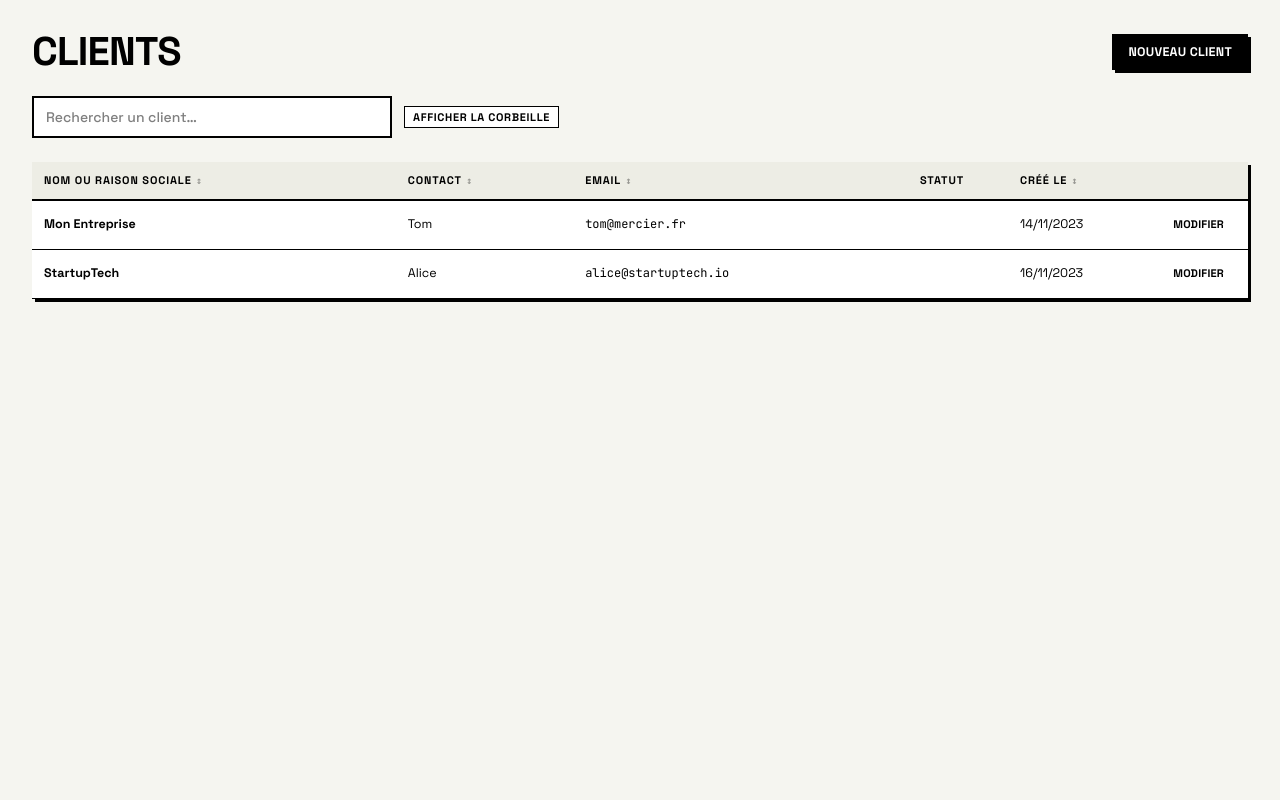
Scenario: ClientsRoute › ouvre la modale ClientForm sur clic Nouveau client
The width and height of the screenshot is (1280, 800).
Click the button "Nouveau client" at (1180, 52), box [1112,34,1248,70]
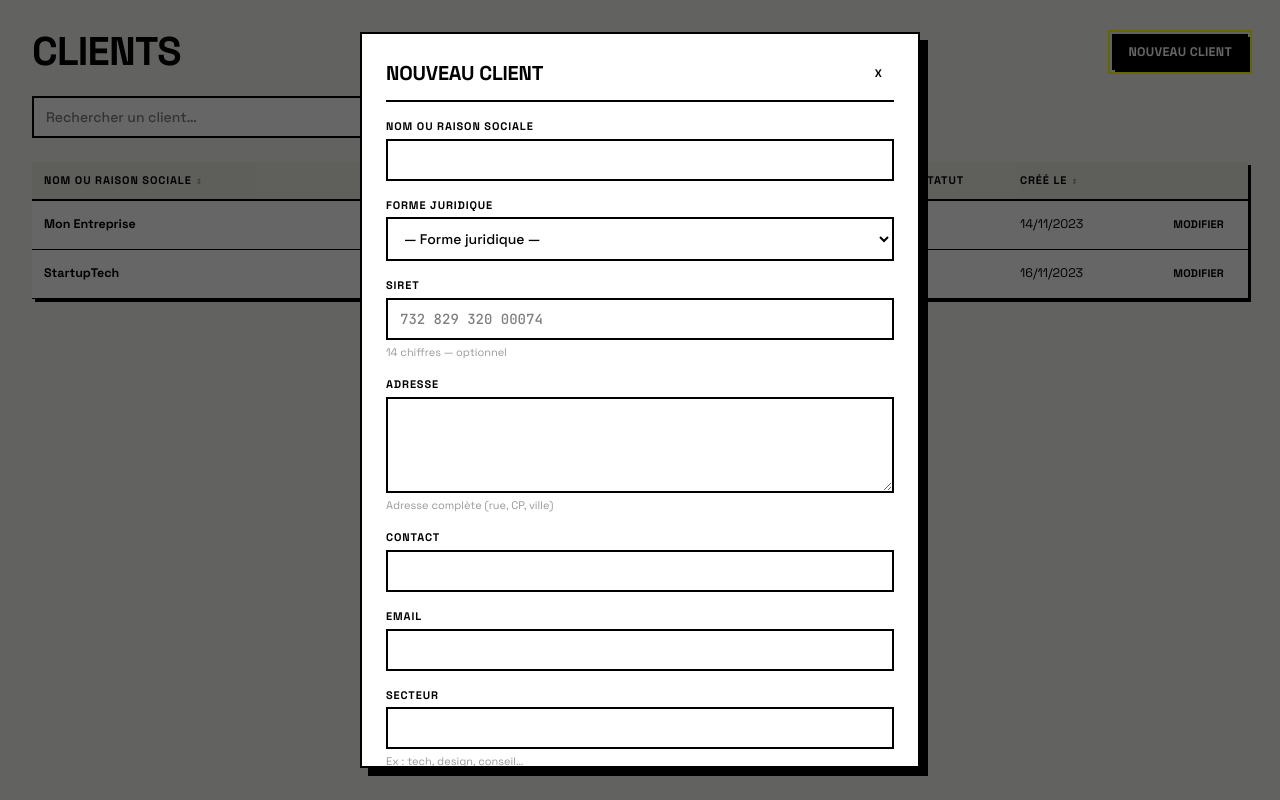
expect the dialog is shown: met
